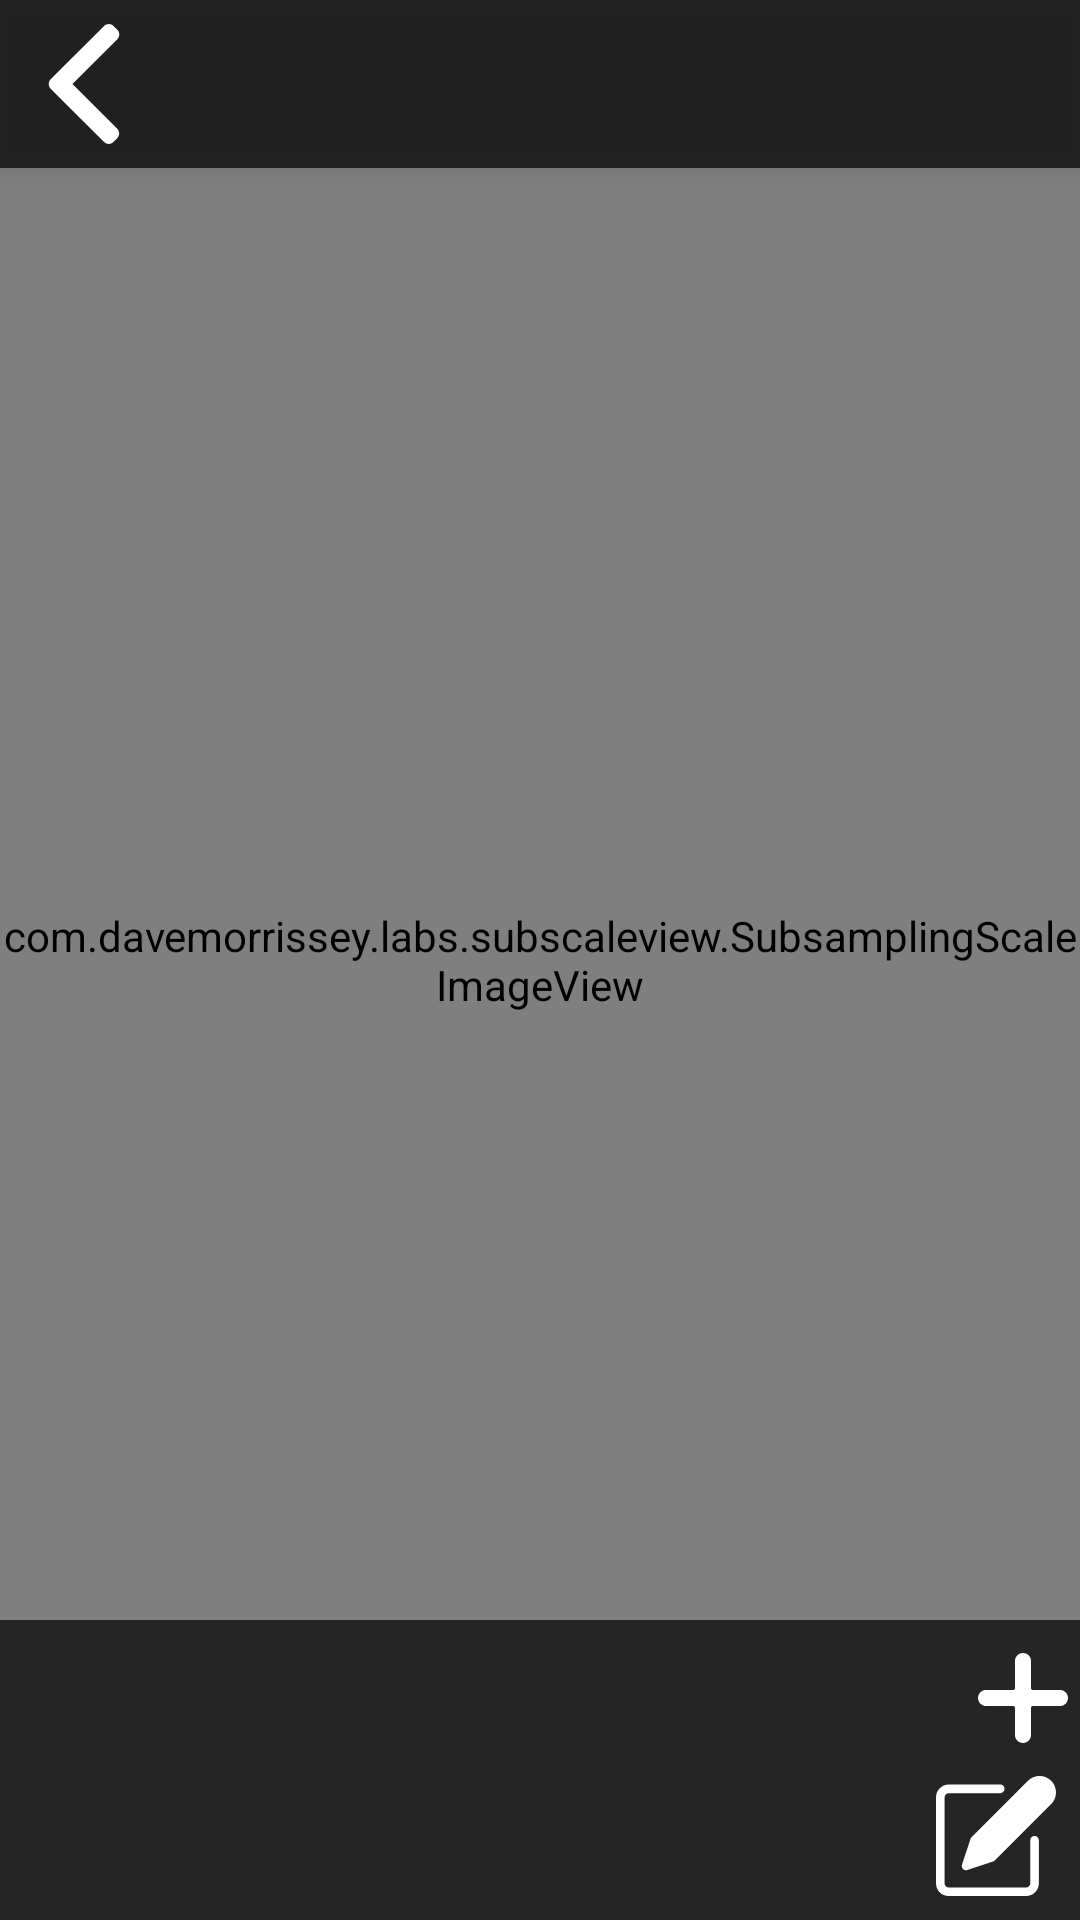

Locate icon controls on the screen. Image size 1080x1920, boxes as (x1, y1, x2, y2).
add: (978, 1653, 1068, 1743)
edit: (936, 1776, 1056, 1896)
left arrow: (48, 24, 120, 144)
